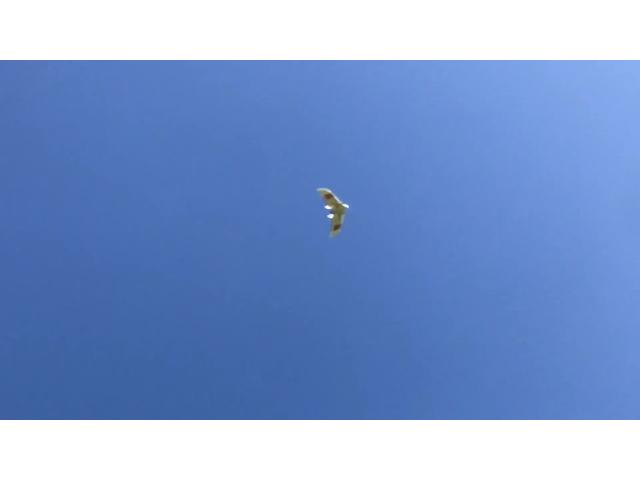Anti-Drone: (304, 176, 364, 242)
